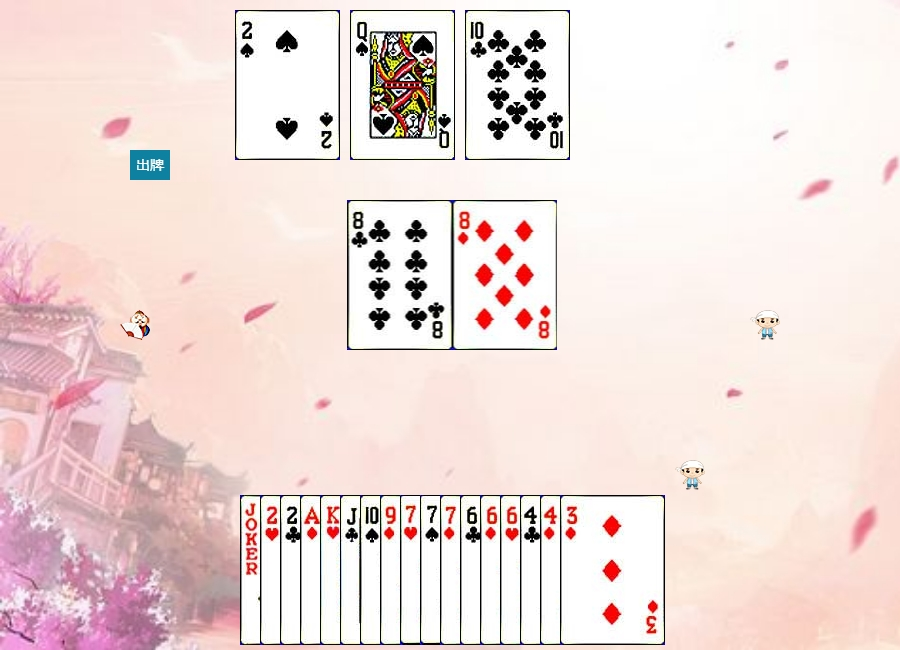10~2: (465, 10, 570, 160)
10~4: (360, 495, 465, 645)
11~2: (340, 495, 445, 645)
12~4: (350, 10, 455, 160)
13~3: (320, 495, 425, 645)
14~1: (300, 495, 405, 645)
15~2: (280, 495, 385, 645)
15~3: (260, 495, 365, 645)
15~4: (235, 10, 340, 160)
18~4: (240, 495, 345, 645)
3~1: (560, 495, 665, 645)
4~1: (540, 495, 645, 645)
4~2: (520, 495, 625, 645)
6~1: (480, 495, 585, 645)
6~2: (460, 495, 565, 645)
6~3: (500, 495, 605, 645)
7~1: (440, 495, 545, 645)
7~3: (400, 495, 505, 645)
7~4: (420, 495, 525, 645)
8~1: (453, 200, 558, 350)
8~2: (348, 200, 453, 350)
9~1: (380, 495, 485, 645)
